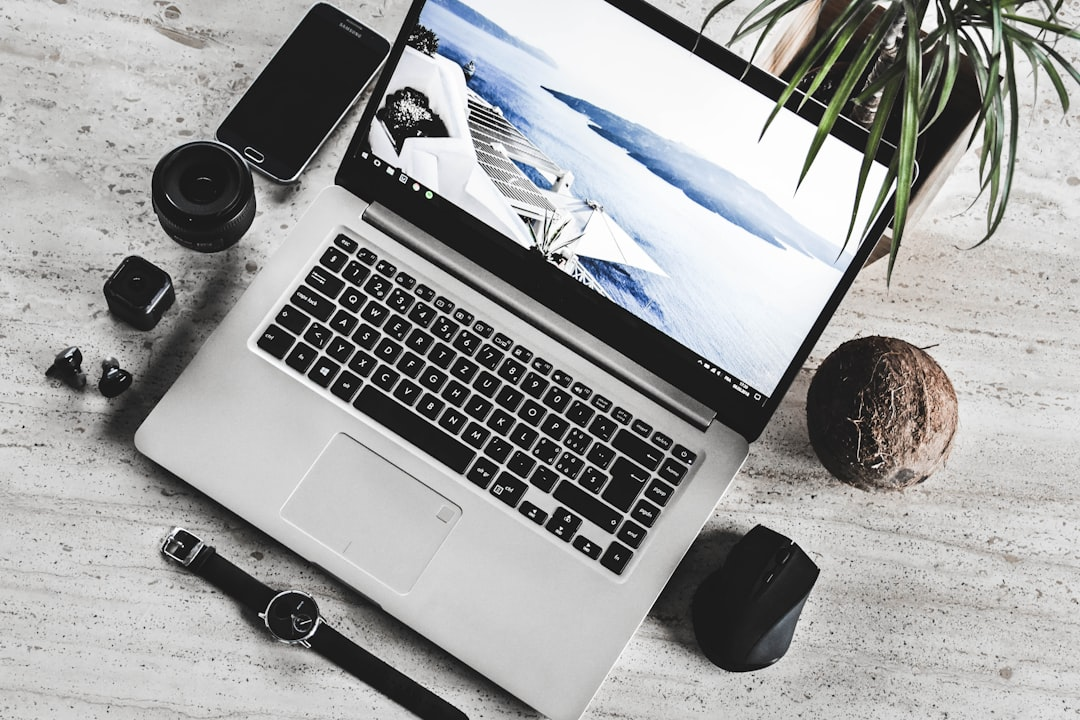phone: (215, 2, 390, 187)
